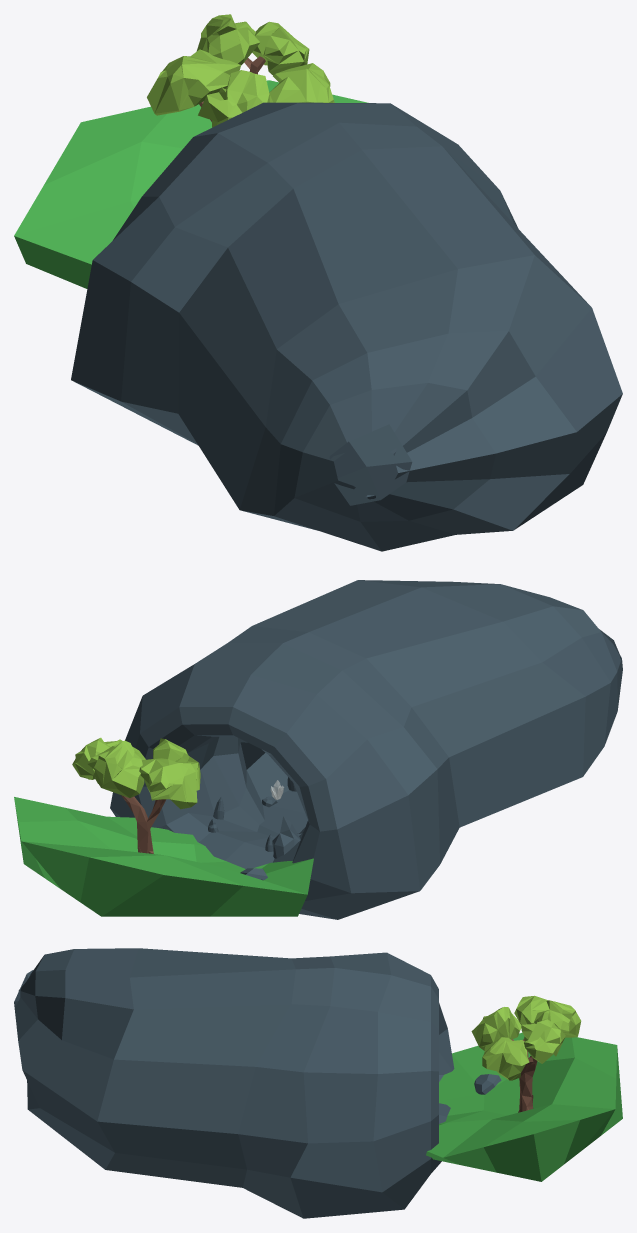
The model's file is Cave Scene.glb.
3 views of the same model, one above another, from view 1: azimuth 30°, elevation 25°; view 2: azimuth 150°, elevation 25°; view 3: azimuth 270°, elevation 25° (orthographic). The views are drawn at different scales.
Parts seen in each view (by area): view 1: group96187052; view 2: group96187052; view 3: group96187052.
Part boxes in pixels (x1,y1,x2,y2): group96187052: (14,14,622,551); group96187052: (14,580,622,919); group96187052: (14,948,622,1218).
Size of the model in its own units: 3.21 by 2.08 by 5.5.
